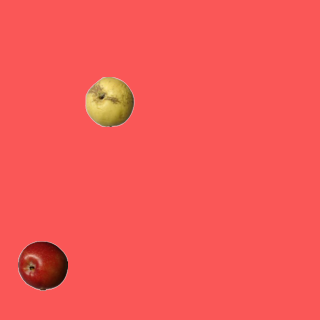Apple Braeburn: (17, 240, 67, 290)
Apple Golden 1: (84, 76, 134, 126)
